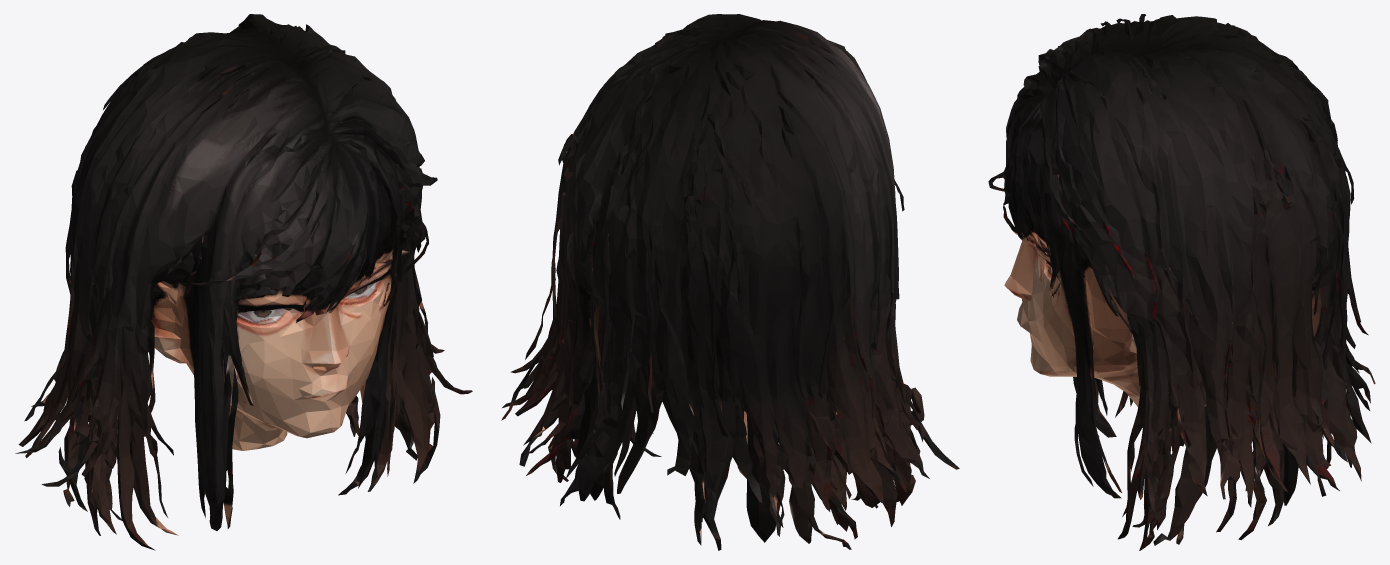
The model's file is side_onaka_repaired_atlas.glb.
3 views of the same model, side by side, from view 1: azimuth 30°, elevation 25°; view 2: azimuth 150°, elevation 25°; view 3: azimuth 270°, elevation 25° (orthographic).
Visible parts, largest first — view 1: temp_mesh.ply; view 2: temp_mesh.ply; view 3: temp_mesh.ply.
Part boxes in pixels (box(x1,y1,x2,y2)): temp_mesh.ply: box(15, 14, 472, 550); temp_mesh.ply: box(501, 14, 959, 550); temp_mesh.ply: box(988, 14, 1375, 550).
Bounding box in the file's own units: 1.94 × 1.97 × 1.54.
1 material, 1 textured.
